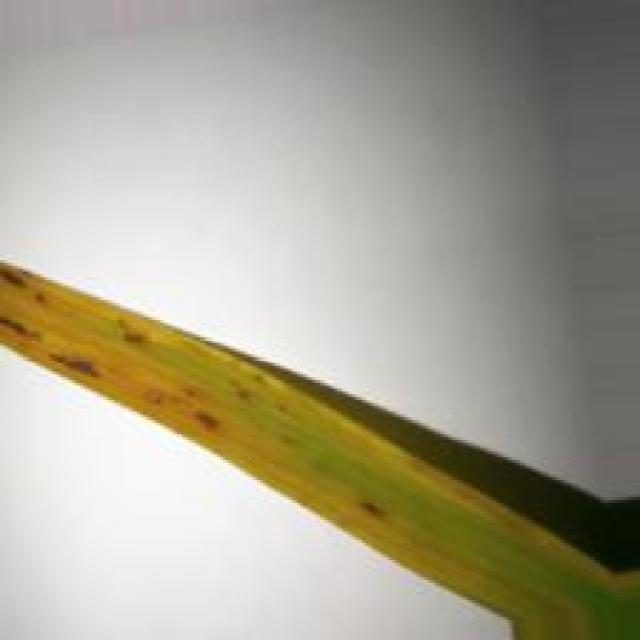Narrow_Brown_Leaf_Spot: (0, 259, 640, 640)
